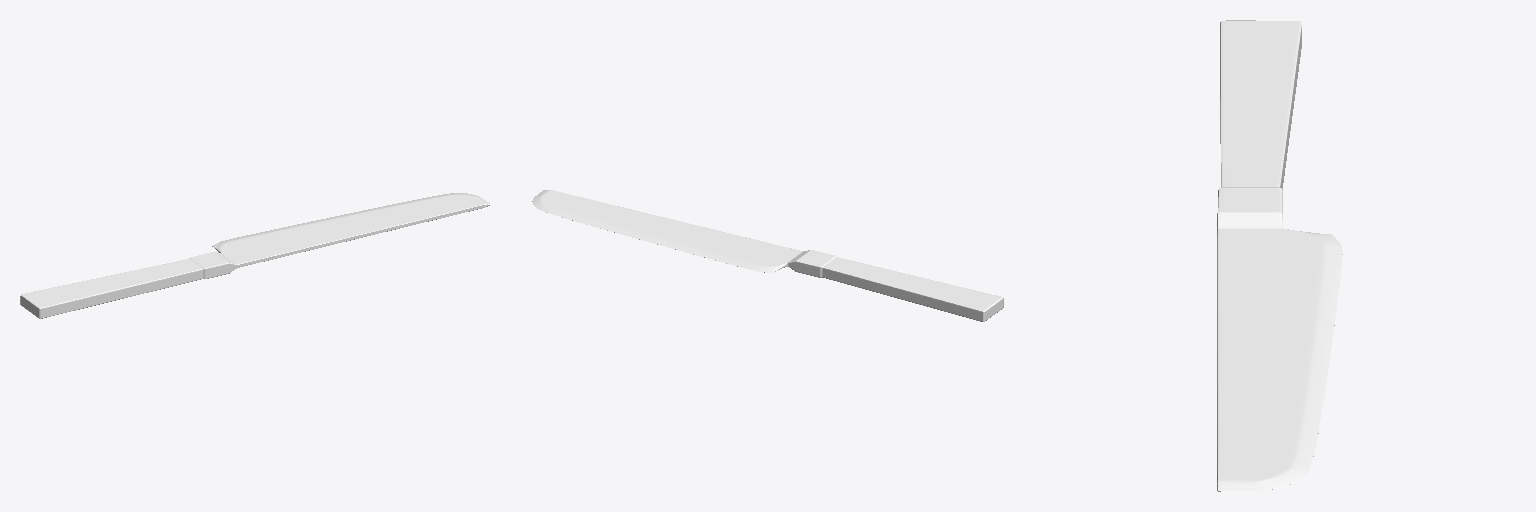
The robot description file, URDF, robot "knife":
<?xml version="1.0" ?>
<robot name="knife">
  <link name="baseLink">
    <contact>
      <lateral_friction value="1.0"/>
      <rolling_friction value="0.1"/>
      <contact_cfm value="1.0"/>
      <contact_erp value="1.0"/>
    </contact>
    <inertial>
      <origin rpy="0 0 0" xyz="0 0 0"/>
      <mass value="1.0"/>
       <inertia ixx="1" ixy="0" ixz="0" iyy="1" iyz="0" izz="1"/>
    </inertial>
    <visual>
      <origin rpy="1.57 0 0" xyz="0.03 0.03 0"/>
      <geometry>
	      <mesh filename="knife.obj" scale="1.0 1.0 1.0"/>
      </geometry>
       <material name="white">
        <color rgba="1 1 1 1"/>
      </material>
    </visual>
    <collision>
      <origin rpy="1.57 0 0" xyz="0.03 0.03 0"/>
      <geometry>
	 	<mesh filename="knife.obj" scale="1.0 1.0 1.0"/>
      </geometry>
    </collision>
  </link>
</robot>

--- Facts derived from the render (not from the file) ---
3 views of the same robot in one strip: view 1: azimuth 30°, elevation 25°; view 2: azimuth 150°, elevation 25°; view 3: azimuth 270°, elevation 25° (orthographic).
Robot: knife — 1 links, 0 joints (none); root link baseLink; default pose: every joint at zero.
Visible links, largest first — view 1: baseLink; view 2: baseLink; view 3: baseLink.
Boxes of the visible links, <box> form: baseLink: <box>20,193,491,318</box>; baseLink: <box>532,190,1003,321</box>; baseLink: <box>1217,20,1342,491</box>.
Bounding box of the posed robot: 23.04 × 2.65 × 0.5416 m (x, y, z).
1 mesh visuals loaded from 1 distinct referenced files (1 OBJ).